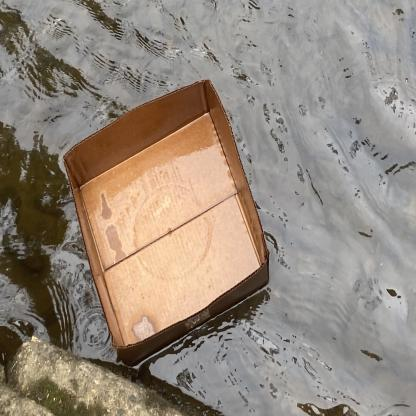trash: (60, 75, 274, 376)
